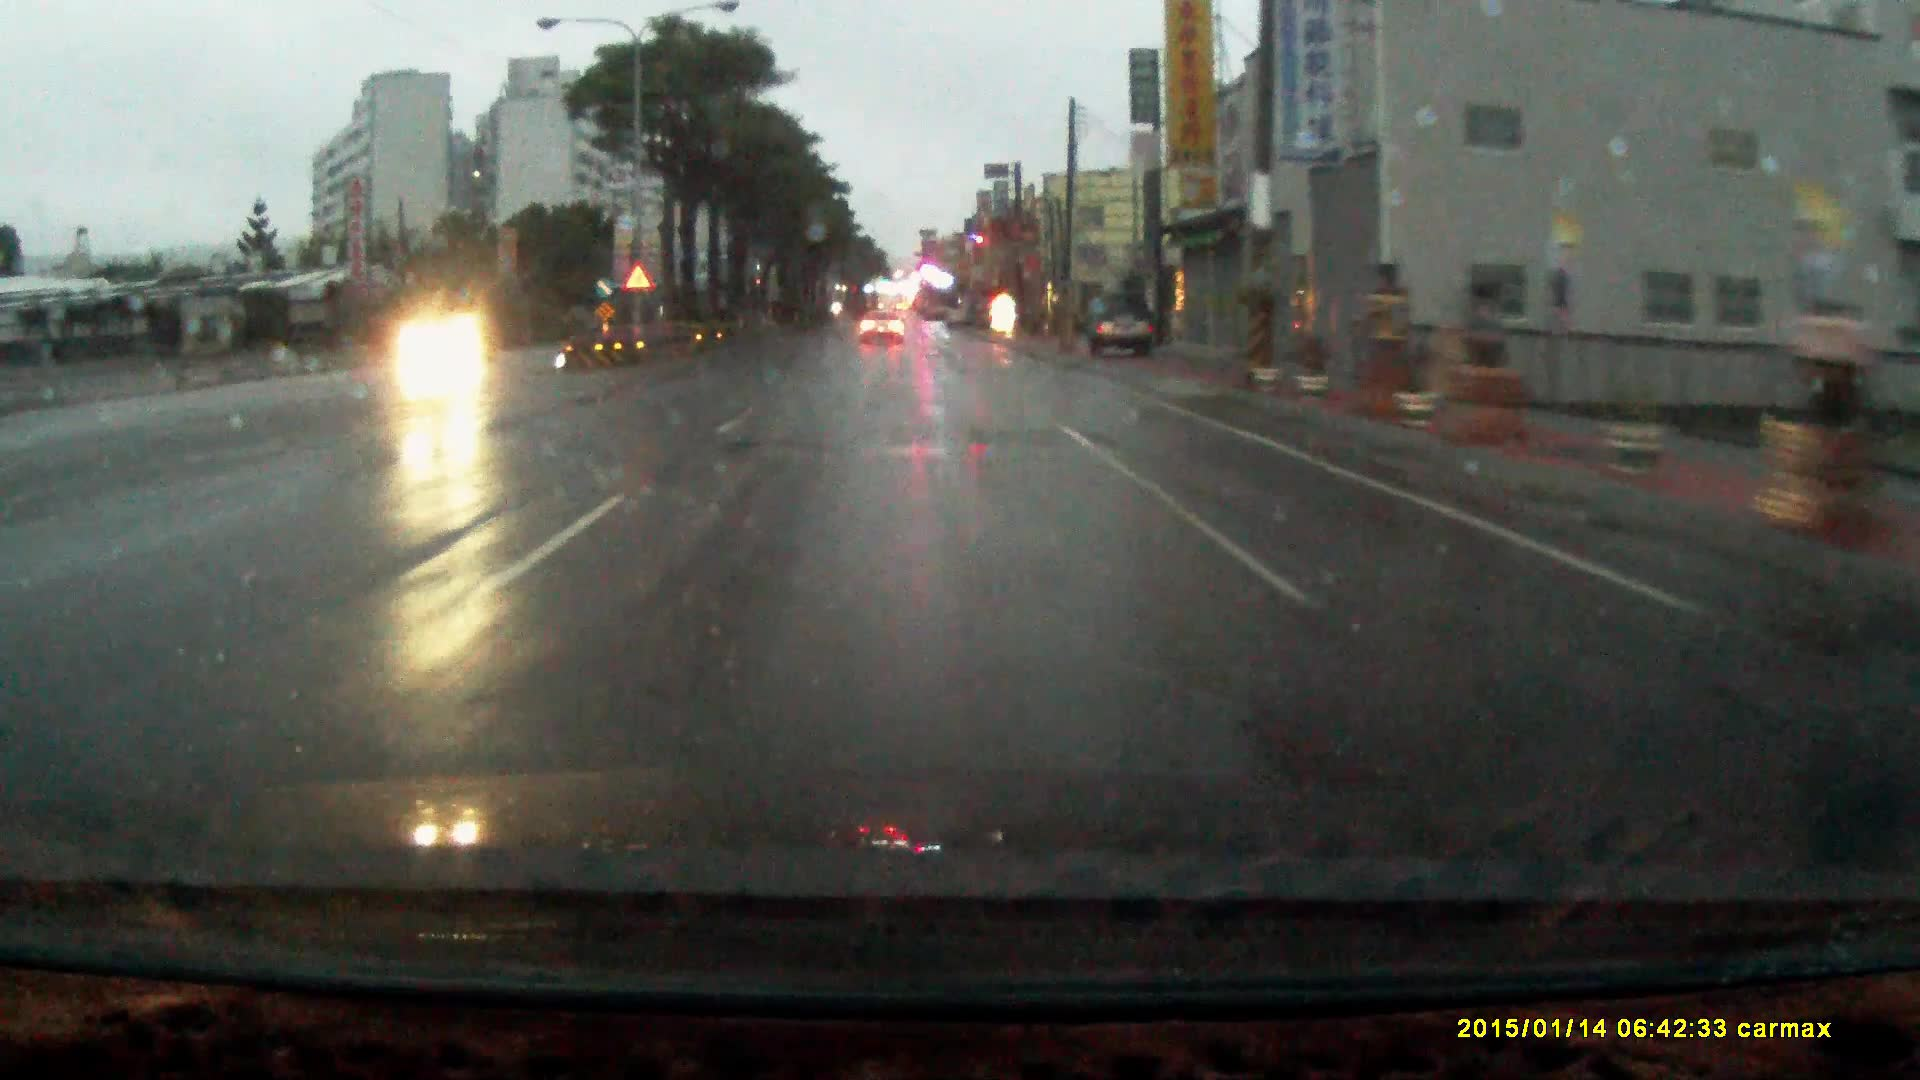vehicle: (1088, 282, 1158, 349), (860, 302, 909, 340)
